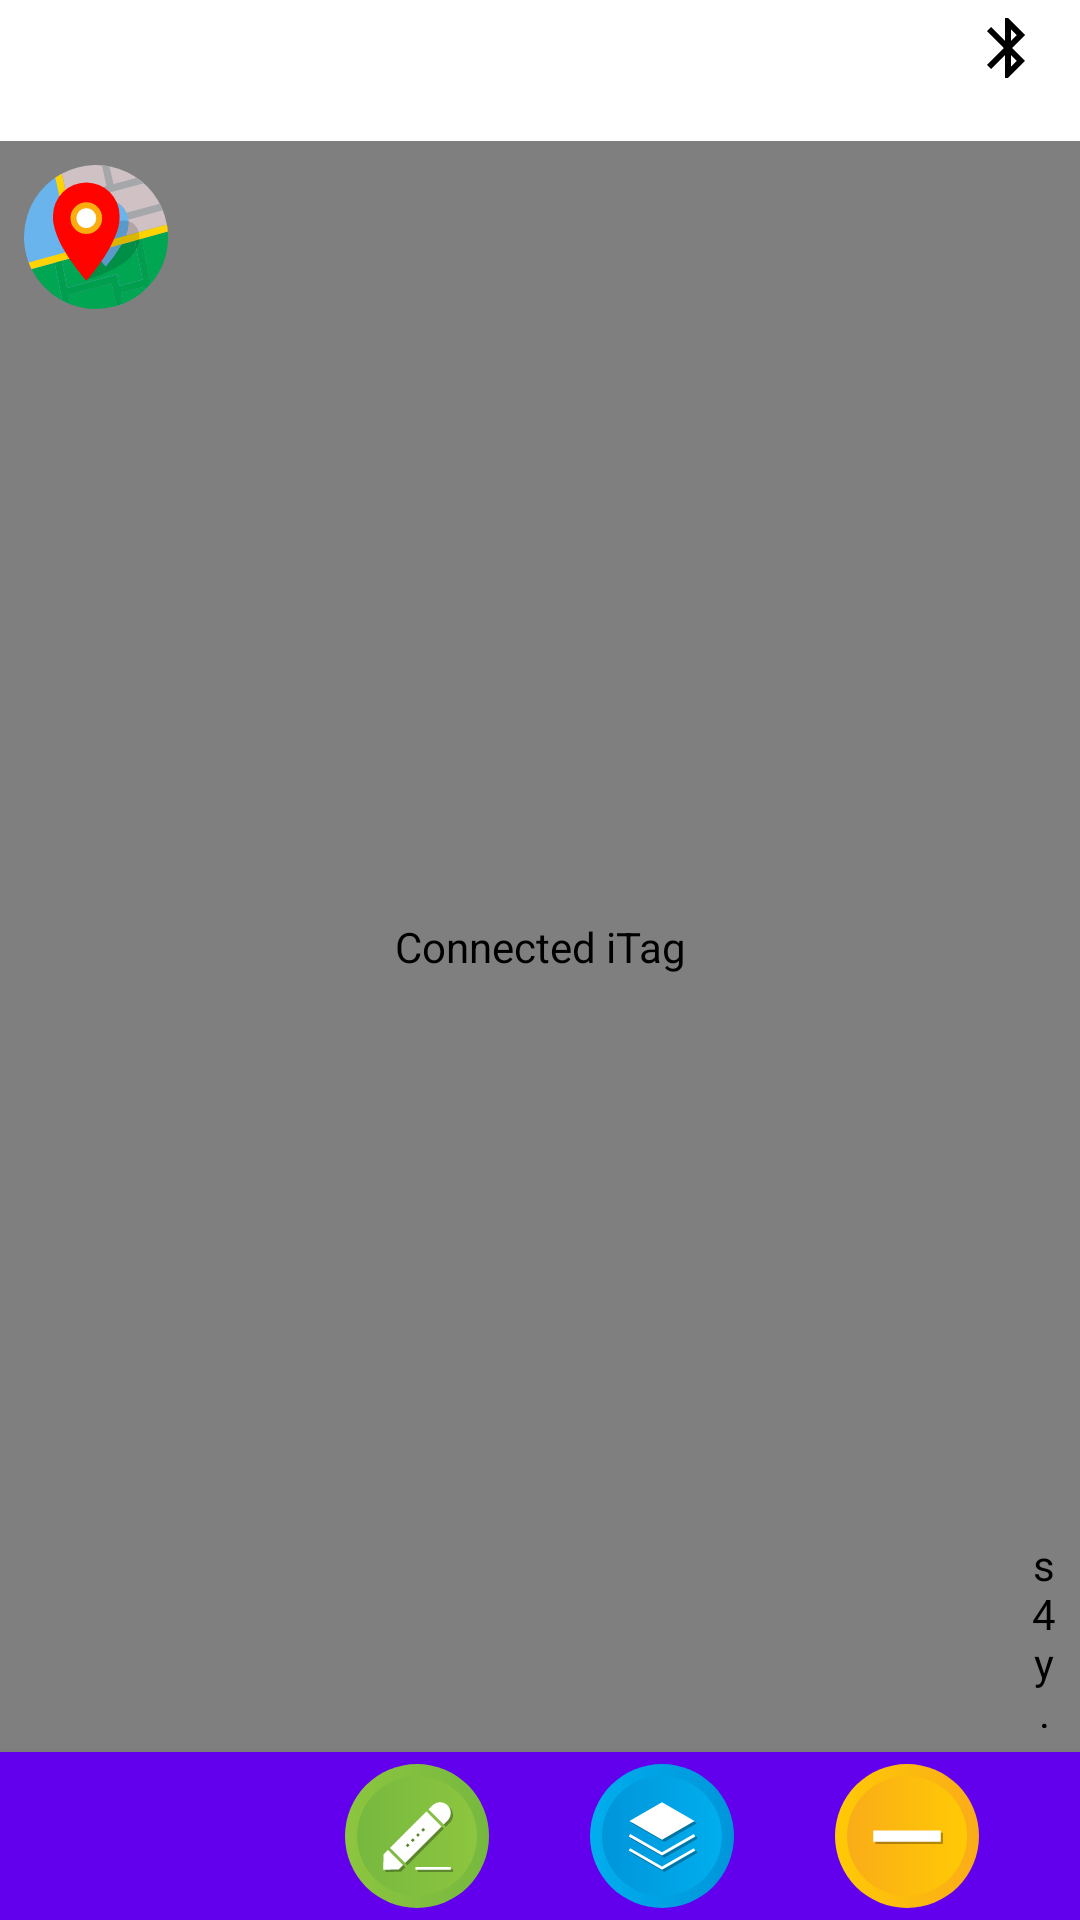

Screen size 1080×1920. Icon name, then its center in pixels as [x,y]:
Forget iTag: [907,1836]
iTag's settings: [417,1836]
location: [96,237]
